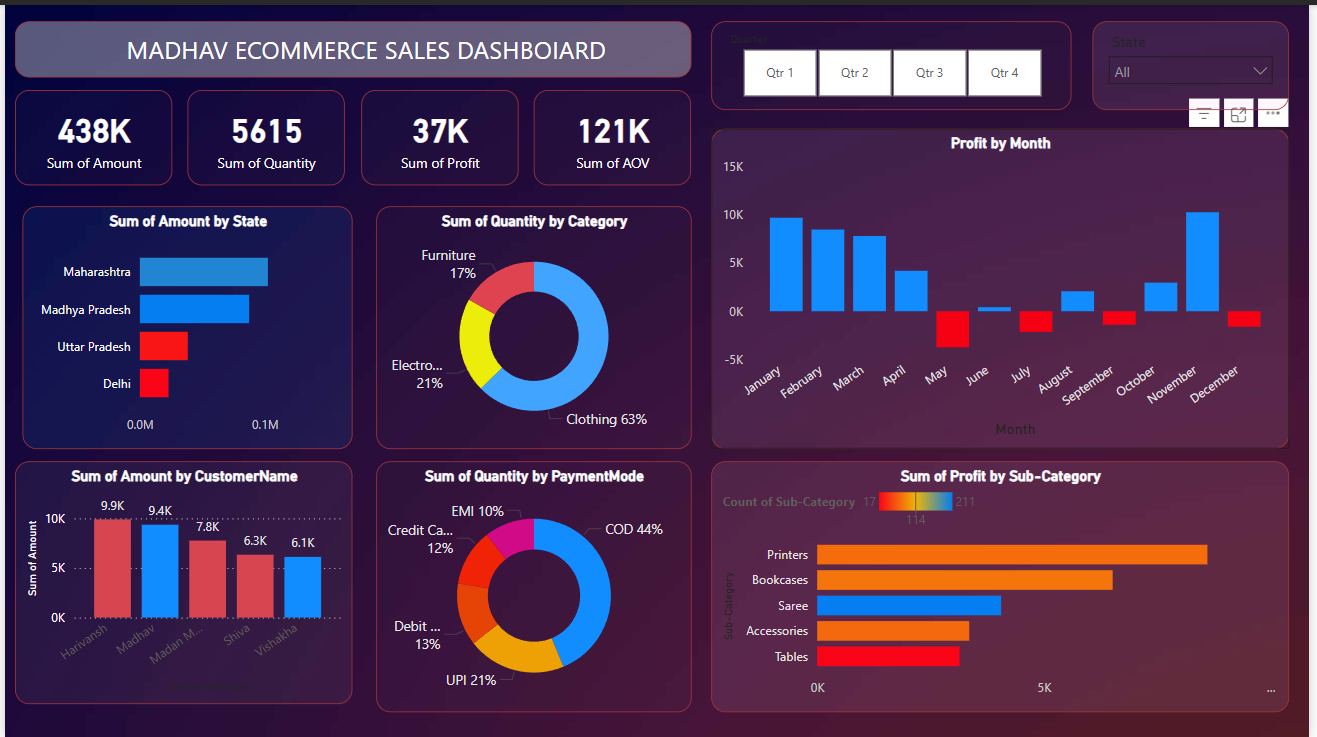

The page's visual inventory and layout, read from the dashboard file:
{"tool":"powerbi","page":{"name":"Page 1","canvas":[1280,720],"ordinal":0},"visuals":[{"type":"textbox","box":[9.8,16,663.8,55.2],"z":0},{"type":"columnChart","title":" Profit by Month","fields":{"Category":["Orders.Order Date.Variation.Date Hierarchy.Month"],"Y":["Details.Profit"]},"box":[693.3,121.5,566.9,314.1],"z":1000},{"type":"barChart","fields":{"Category":["Details.Sub-Category"],"Y":["Details.Profit"]},"box":[693.3,447.9,566.9,246.6],"z":2000},{"type":"donutChart","fields":{"Category":["Details.PaymentMode","Details.Category"],"Y":["Details.Quantity"]},"box":[364.4,447.9,309.2,246.6],"z":3000},{"type":"donutChart","fields":{"Category":["Details.Category"],"Y":["Details.Quantity"]},"box":[364.4,197.5,309.2,238],"z":4000},{"type":"card","fields":{"Values":["Details.AOV"]},"box":[519,83.4,154.6,93.3],"z":5000},{"type":"card","fields":{"Values":["Details.Profit"]},"box":[349.7,83.4,154.6,93.3],"z":6000},{"type":"card","fields":{"Values":["Details.Quantity"]},"box":[179.1,83.4,154.6,93.3],"z":7000},{"type":"card","fields":{"Values":["Details.Amount"]},"box":[9.8,83.4,154.6,93.3],"z":8000},{"type":"barChart","fields":{"Category":["Orders.State"],"Y":["Details.Amount"]},"box":[17.2,197.5,323.9,238],"z":9000},{"type":"columnChart","fields":{"Category":["Orders.CustomerName"],"Y":["Details.Amount"]},"box":[9.8,447.9,331.3,238],"z":10000},{"type":"slicer","fields":{"Values":["Orders.Order Date.Variation.Date Hierarchy.Quarter"]},"box":[693.3,16,353.4,87.1],"z":10001},{"type":"slicer","fields":{"Values":["Orders.State"]},"box":[1067.5,16,192.6,87.1],"z":10002}]}

Visuals, with their boxes in screenshot pixels (x1, y1, x2, y2), scaled from the page's 1280x720 canvas onto the 1317x737 screenshot:
textbox: bbox=(10, 16, 693, 73)
" Profit by Month" columnChart: bbox=(713, 124, 1297, 446)
barChart - Details.Sub-Category x Details.Profit: bbox=(713, 458, 1297, 711)
donutChart - Details.PaymentMode x Details.Category: bbox=(375, 458, 693, 711)
donutChart - Details.Category x Details.Quantity: bbox=(375, 202, 693, 446)
card - Details.AOV: bbox=(534, 85, 693, 181)
card - Details.Profit: bbox=(360, 85, 519, 181)
card - Details.Quantity: bbox=(184, 85, 343, 181)
card - Details.Amount: bbox=(10, 85, 169, 181)
barChart - Orders.State x Details.Amount: bbox=(18, 202, 351, 446)
columnChart - Orders.CustomerName x Details.Amount: bbox=(10, 458, 351, 702)
slicer - Orders.Order Date.Variation.Date Hierarchy.Quarter: bbox=(713, 16, 1077, 106)
slicer - Orders.State: bbox=(1098, 16, 1297, 106)
